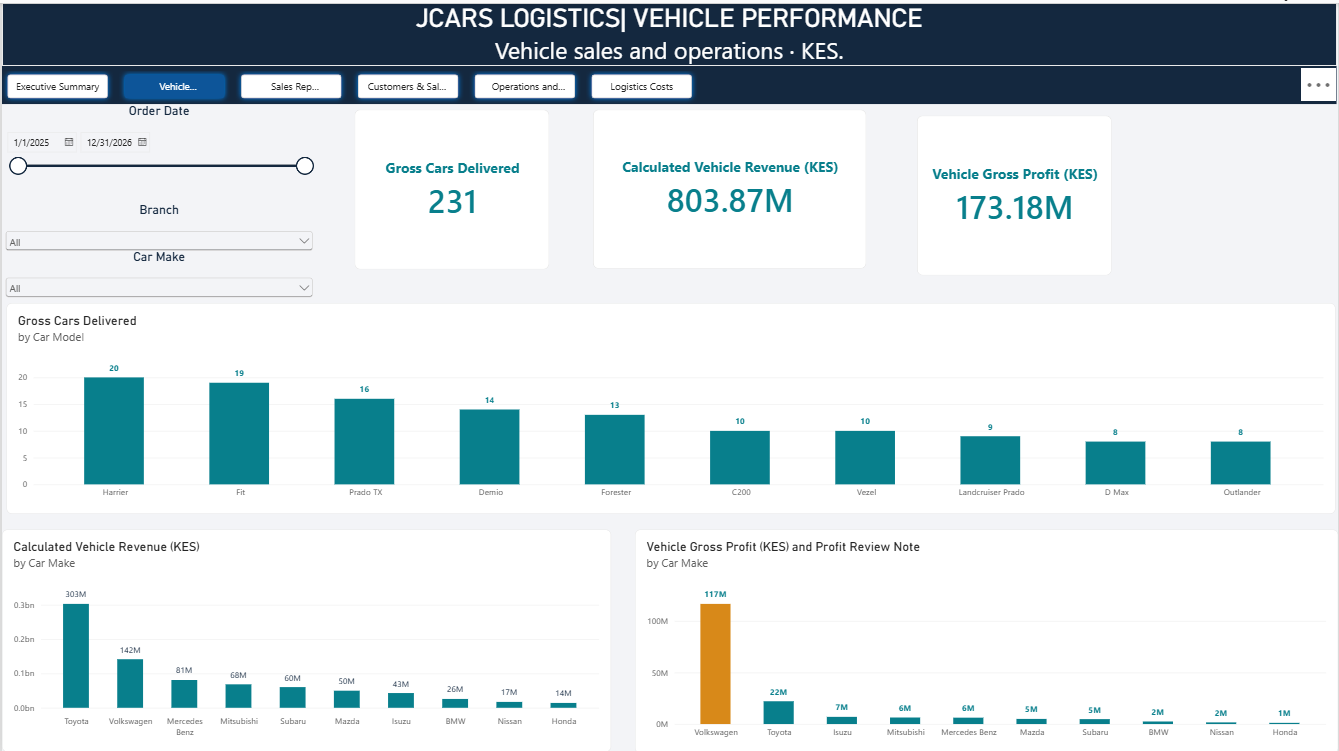

The dashboard page shown, as its layout file describes it:
{"tool":"powerbi","page":{"name":"Vehicle Performance","canvas":[1920,1080],"ordinal":1},"visuals":[{"type":"shape","box":[0,0,1919.3,145.4],"z":0},{"type":"textbox","title":"JCARS LOGISTICS| VEHICLE PERFORMANCE","box":[0,0,1919.3,90.9],"z":1000},{"type":"cardVisual","fields":{"Data":["Fact_Sales.Gross Cars Delivered"]},"box":[507,154.2,280,230],"z":2000},{"type":"cardVisual","fields":{"Data":["Fact_Sales.Calculated Vehicle Revenue (KES)"]},"box":[850.3,153.9,393.2,229.7],"z":3000},{"type":"cardVisual","fields":{"Data":["Fact_Sales.Vehicle Gross Profit (KES)"]},"box":[1316.9,161.1,280,230],"z":4000},{"type":"clusteredColumnChart","fields":{"Category":["DimCarModel.Car Make"],"Y":["Fact_Sales.Calculated Vehicle Revenue (KES)"]},"box":[0,757.9,876.3,319.7],"z":5000},{"type":"clusteredColumnChart","fields":{"Category":["DimCarModel.Car Make"],"Y":["Fact_Sales.Vehicle Gross Profit (KES)"]},"box":[909.5,757.9,1011.3,322.1],"z":6000},{"type":"slicer","title":"Order Date ","fields":{"Values":["DimDate.Date"]},"box":[0,145.4,452,145.4],"z":7000},{"type":"slicer","title":"Branch","fields":{"Values":["DimBranch.Branch"]},"box":[0,286.2,452,72.7],"z":8000},{"type":"slicer","title":"Car Make","fields":{"Values":["DimCarModel.Car Make"]},"box":[0,354.3,452,75],"z":9000},{"type":"clusteredColumnChart","fields":{"Category":["DimCarModel.Car Model"],"Y":["Fact_Sales.Gross Cars Delivered"]},"box":[7.1,431.1,1911.3,303.2],"z":10000},{"type":"pageNavigator","box":[0,94.9,1000,50],"z":10001}]}

Visuals, with their boxes on the page's 1920x1080 design canvas (x1, y1, x2, y2). These are canvas units, not pixel positions in the 1339x751 screenshot, which may show the page scaled, cropped or inside an application window:
shape: bbox=[0, 0, 1919, 145]
"JCARS LOGISTICS| VEHICLE PERFORMANCE" textbox: bbox=[0, 0, 1919, 91]
cardVisual - Fact_Sales.Gross Cars Delivered: bbox=[507, 154, 787, 384]
cardVisual - Fact_Sales.Calculated Vehicle Revenue (KES): bbox=[850, 154, 1244, 384]
cardVisual - Fact_Sales.Vehicle Gross Profit (KES): bbox=[1317, 161, 1597, 391]
clusteredColumnChart - DimCarModel.Car Make x Fact_Sales.Calculated Vehicle Revenue (KES): bbox=[0, 758, 876, 1078]
clusteredColumnChart - DimCarModel.Car Make x Fact_Sales.Vehicle Gross Profit (KES): bbox=[910, 758, 1921, 1080]
"Order Date " slicer: bbox=[0, 145, 452, 291]
"Branch" slicer: bbox=[0, 286, 452, 359]
"Car Make" slicer: bbox=[0, 354, 452, 429]
clusteredColumnChart - DimCarModel.Car Model x Fact_Sales.Gross Cars Delivered: bbox=[7, 431, 1918, 734]
pageNavigator: bbox=[0, 95, 1000, 145]
